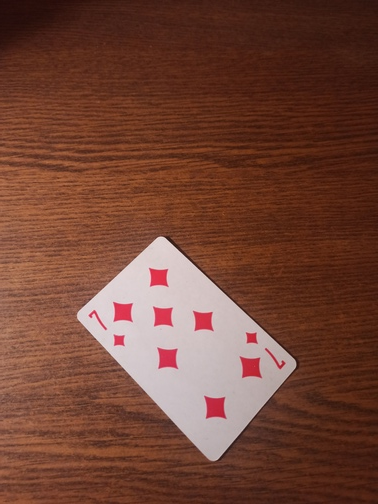sevendiamonds: (75, 235, 299, 463)
